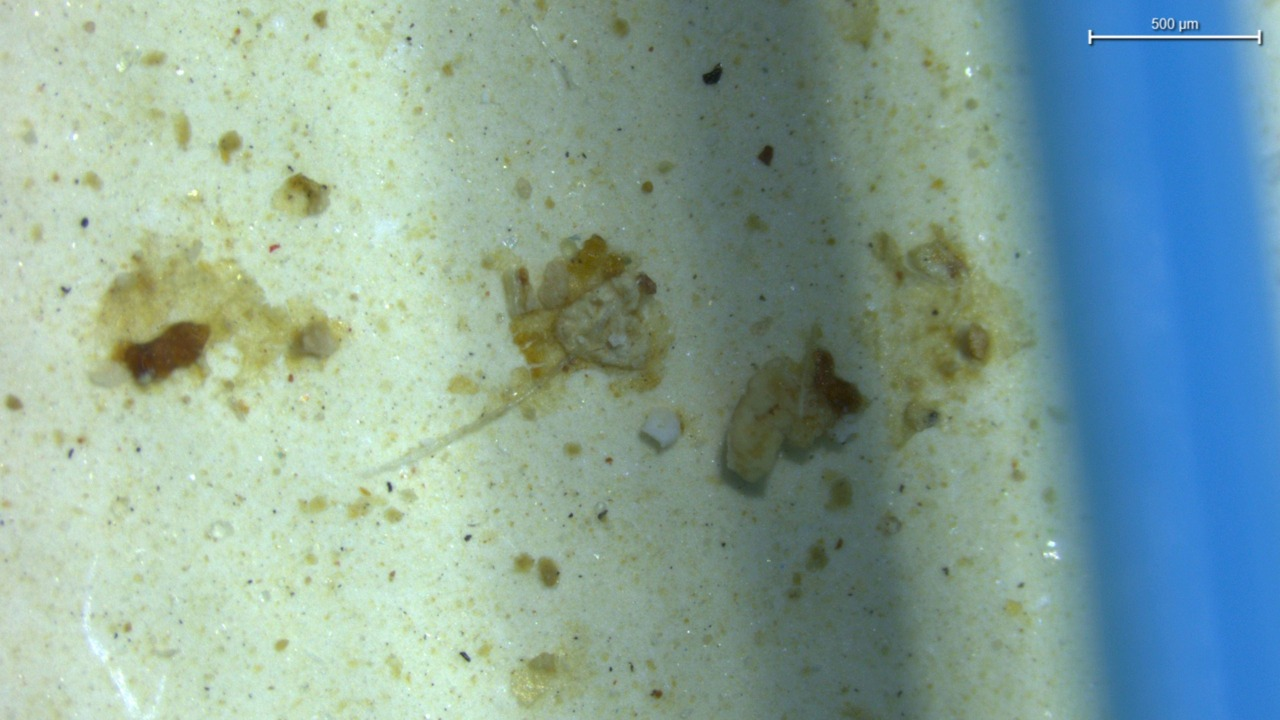microplastic_fragment: (724, 346, 863, 483), (556, 271, 659, 369), (641, 409, 681, 449), (300, 321, 340, 358)
